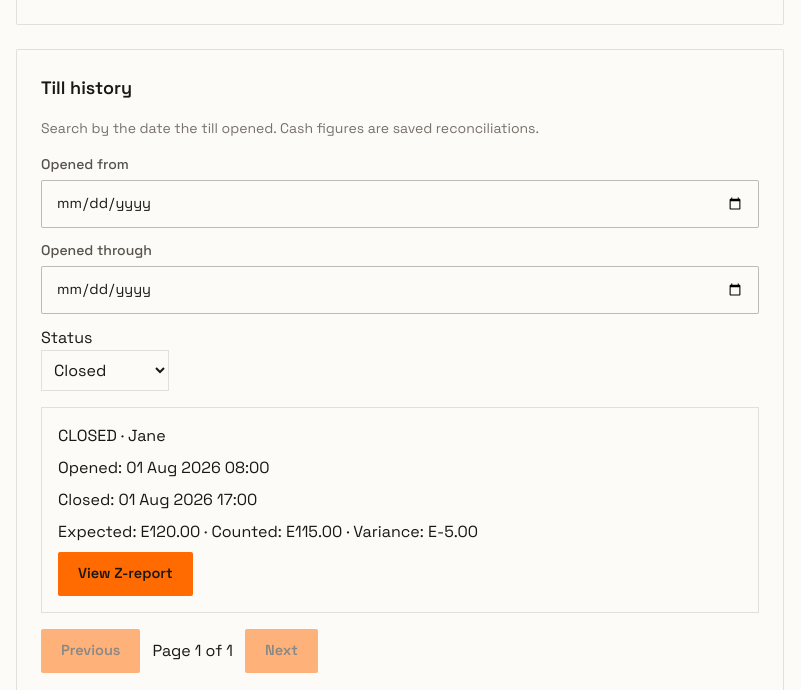
saved cash-ups › clears the old printable report when another report request fails
(page scrolled)
Step 1. Click the button "View Z-report" → (125, 574), box [58, 552, 193, 596]
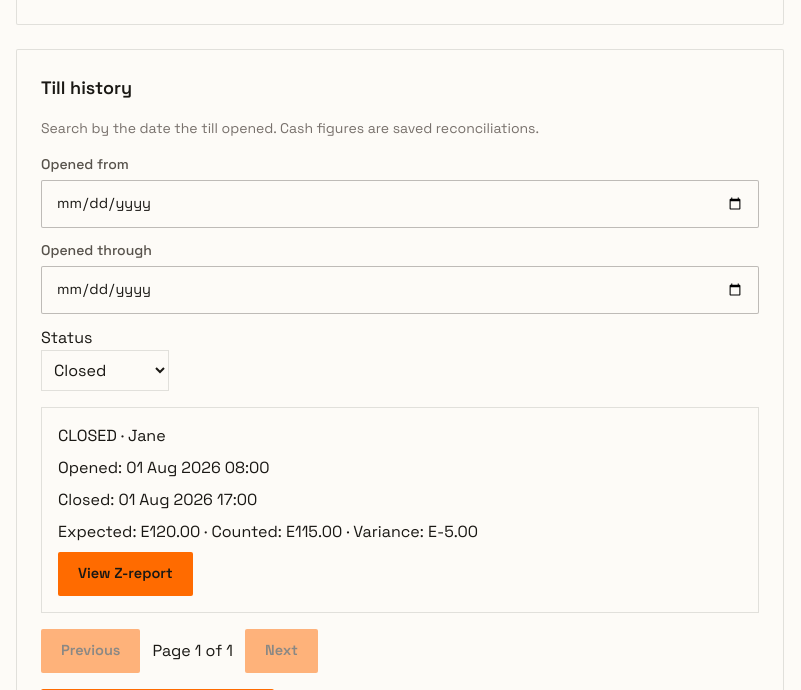
Step 2. Click the button "View Z-report" → (125, 574), box [58, 552, 193, 596]
(page scrolled)
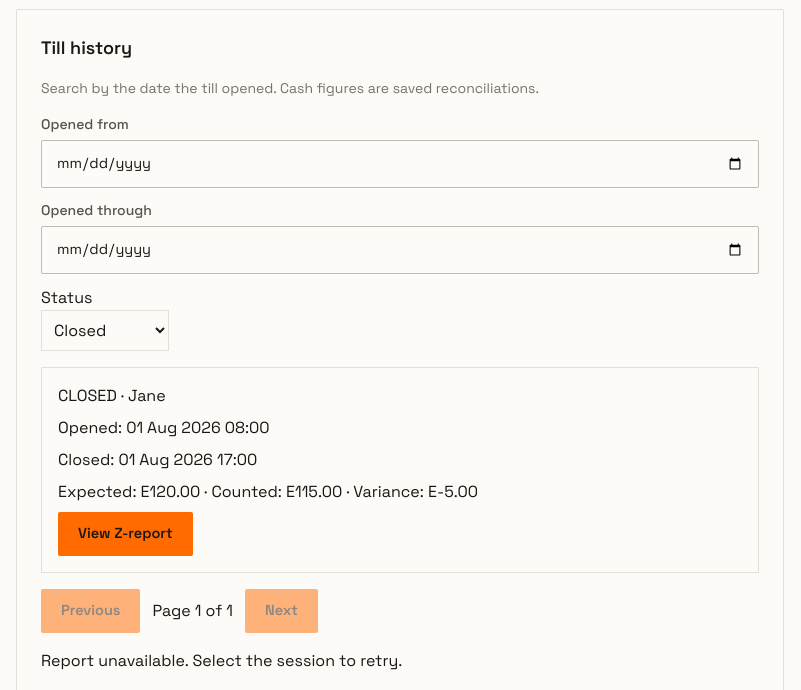
expect the message shows "Report unavailable": met, box [41, 650, 185, 671]
